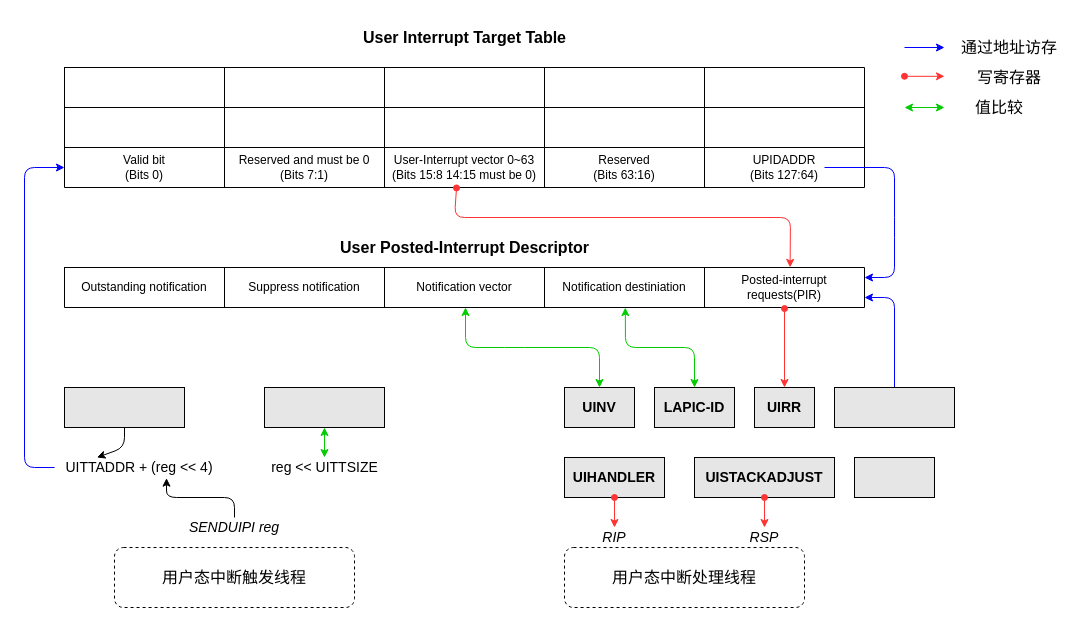
Image size: 1082x625. Some labels were removed from this diagram. The box of each missing label's shape, as (x1, y1, x2, y2) in pixels:
UIF: (854, 456, 934, 498)
UITTADDR: (64, 386, 184, 428)
UITTSIZE: (264, 386, 384, 428)
UPIDADDR: (834, 386, 954, 428)
